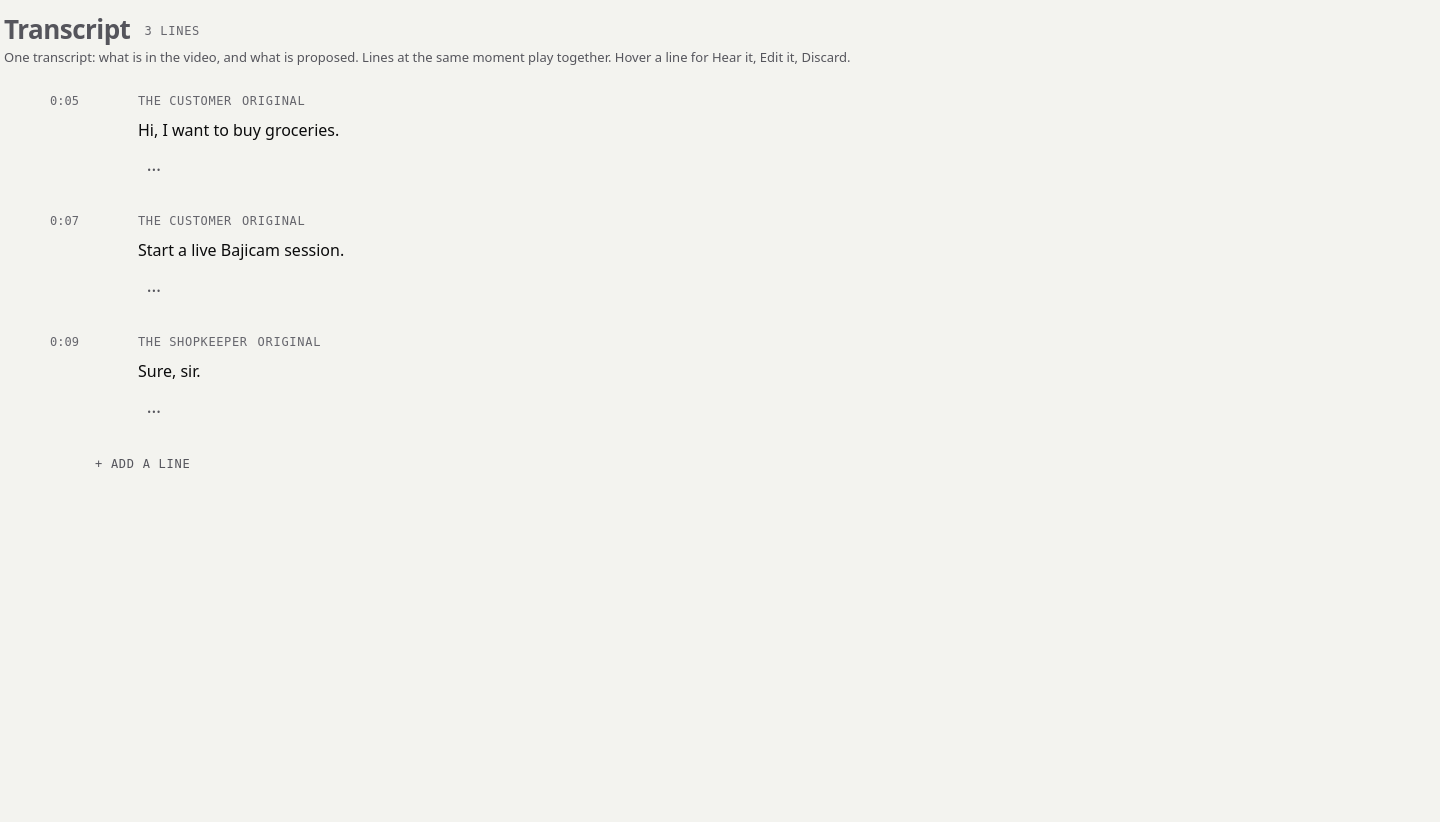
LineDoc: the line is the unit › edits a line in place: wording shown as a change, delivery, voice, cost, Voice it
Click the button "Start a live Bajicam session." at (241, 250), box x1=138 y1=238 x2=1426 y2=263
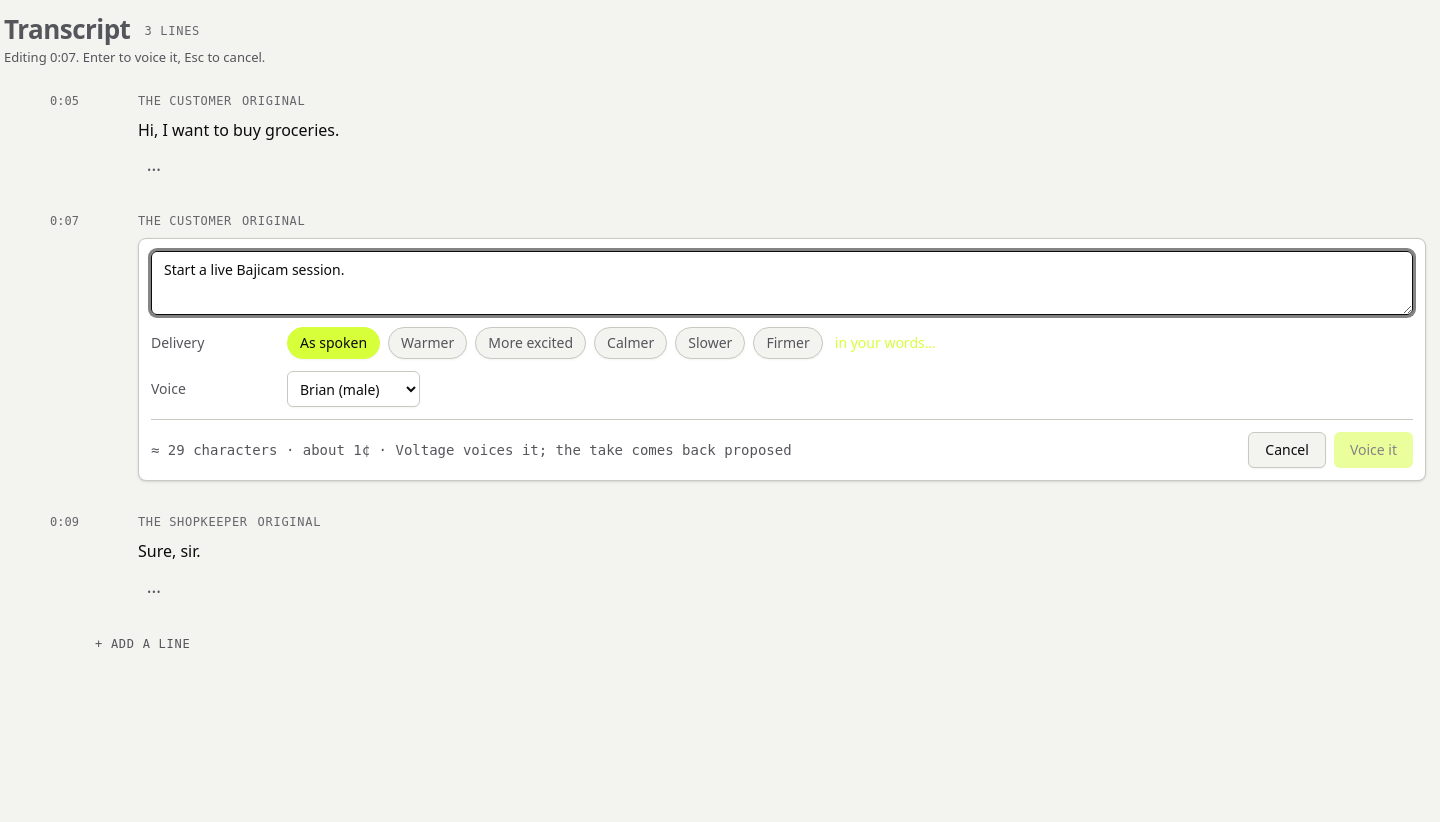
Check: the text "Editing 0:07. Enter to voice it, Esc to cancel." is shown, box x1=4 y1=48 x2=265 y2=66
Check: the dropdown named "Voice" shows "Brian (male)", box x1=287 y1=371 x2=420 y2=407
Replace the text in the text box named "new wording" with "Start a live Bhaji Cam session." at (782, 283), box x1=151 y1=251 x2=1413 y2=315
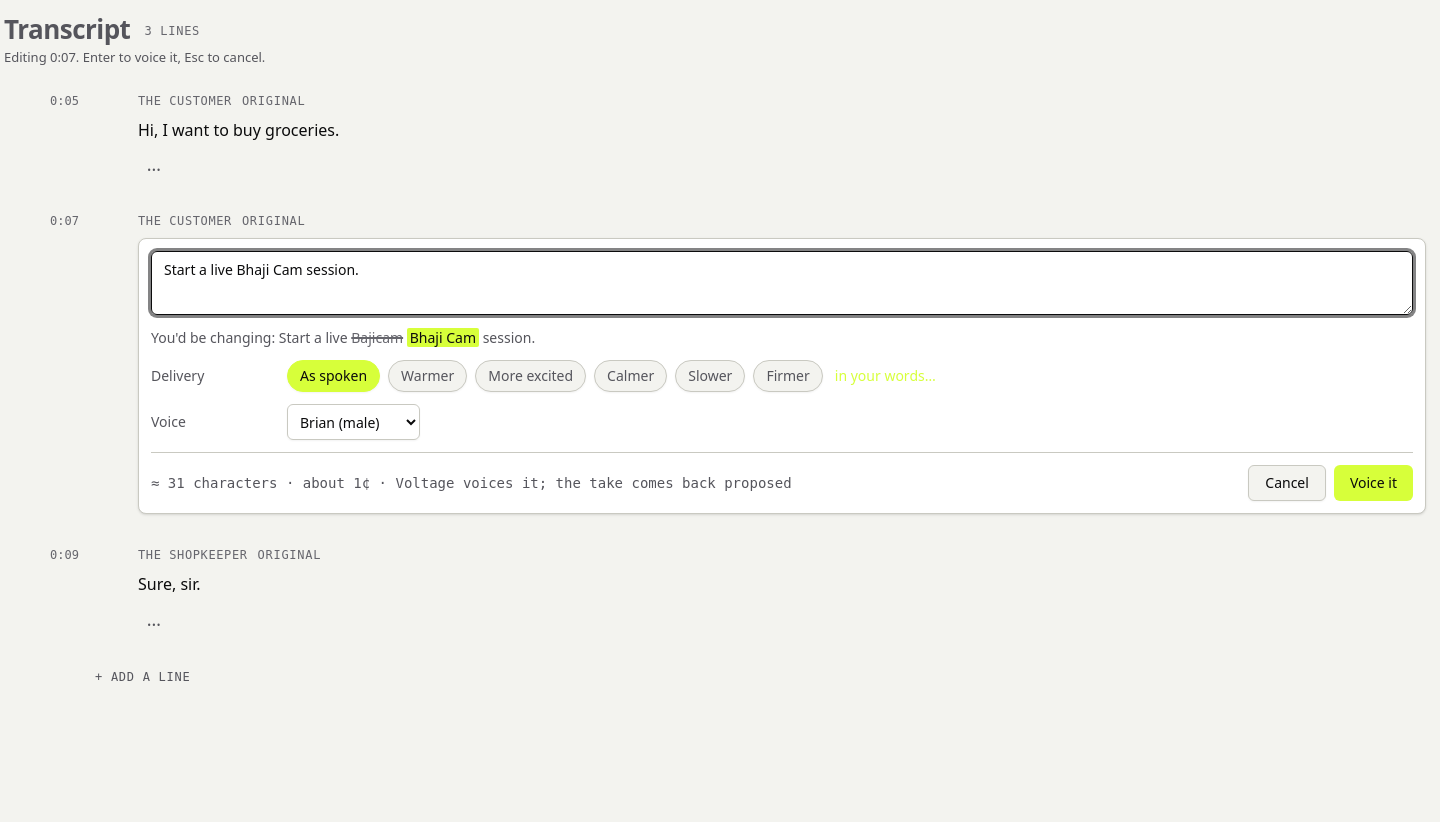
Check: the text "You'd be changing: Start a live Bajicam Bhaji Cam session." is shown, box x1=151 y1=328 x2=535 y2=347
Check: the text "31 characters · about 1¢" is shown, box x1=151 y1=473 x2=792 y2=493
Click the button "Warmer" at (428, 376), box x1=388 y1=360 x2=467 y2=392
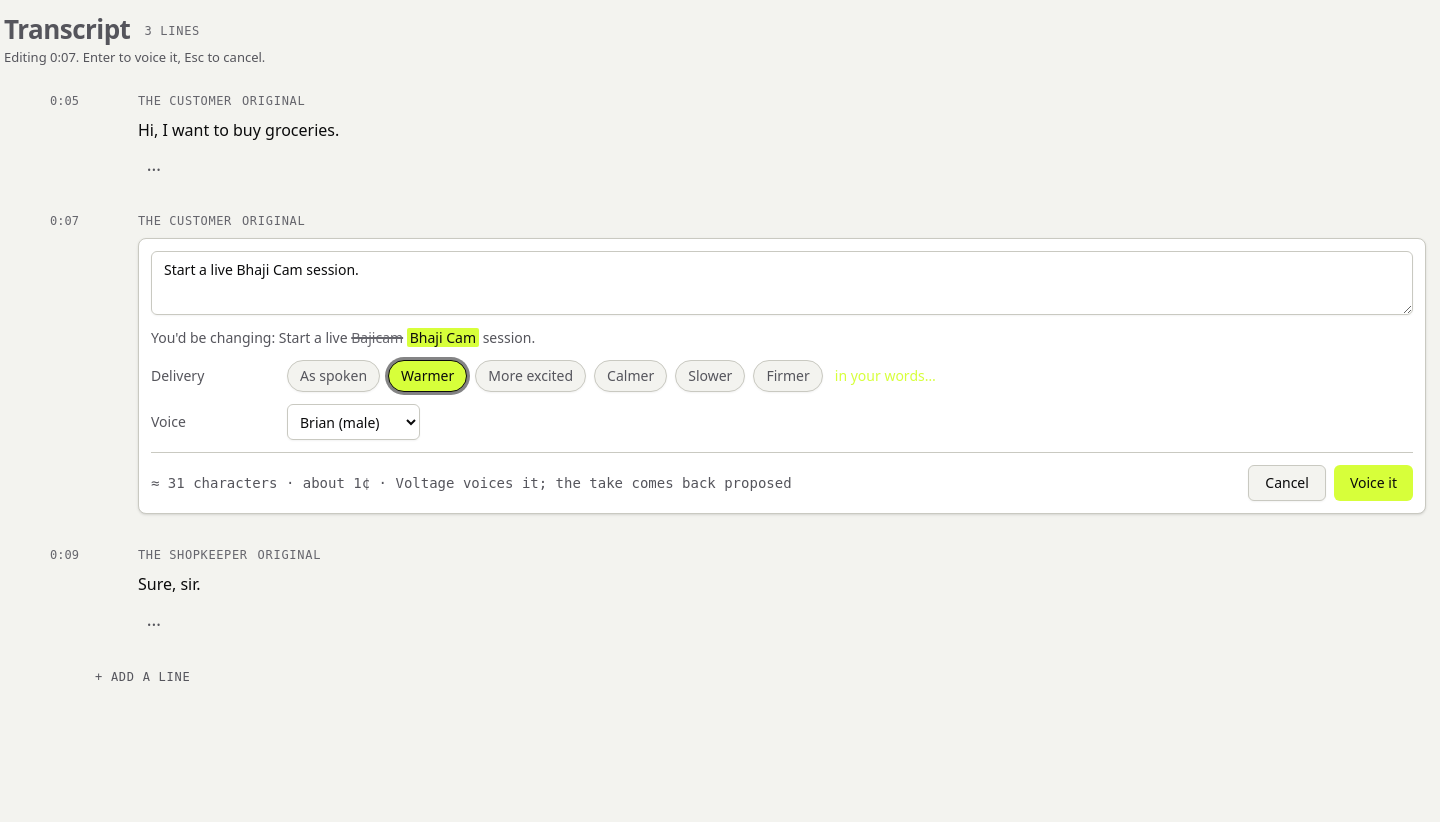
Click the button "Voice it" at (1373, 483), box x1=1334 y1=465 x2=1413 y2=501
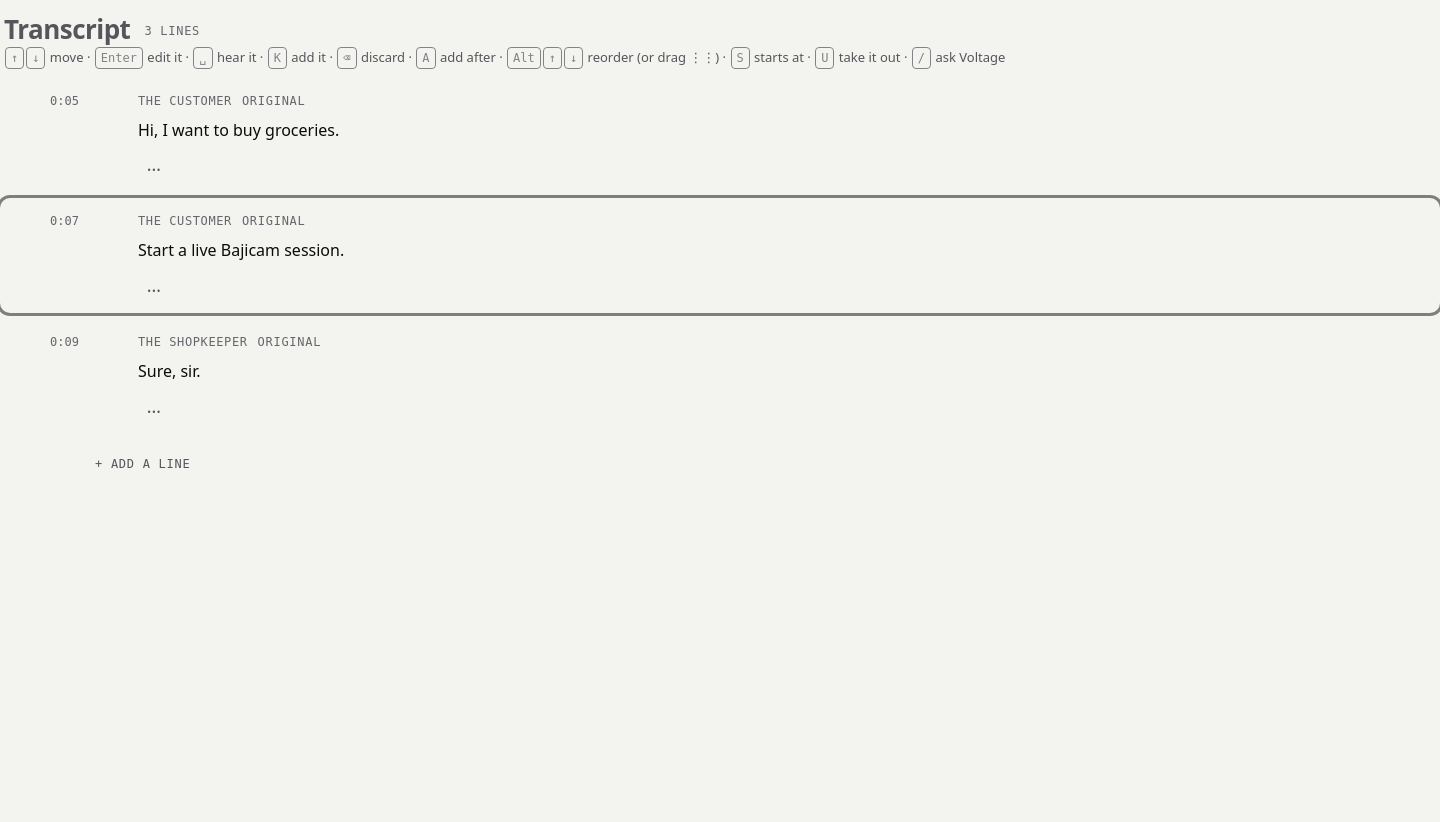
Check: the element with test id "editor" is gone
